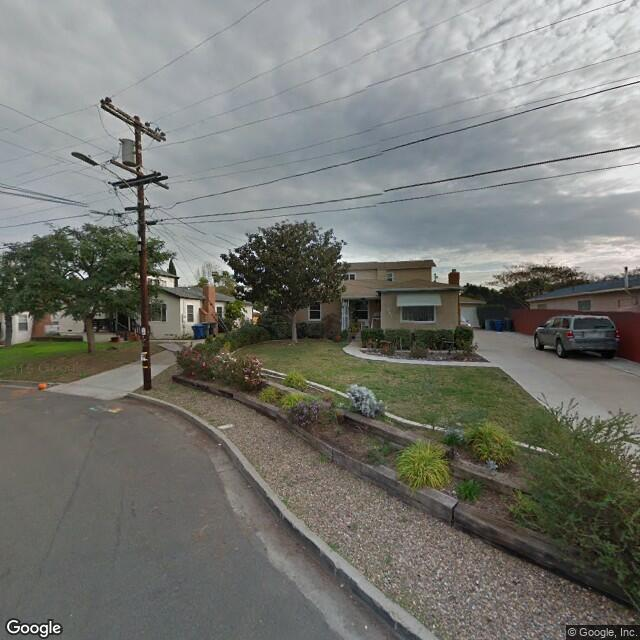litter: (36, 381, 47, 391), (215, 440, 224, 447)
